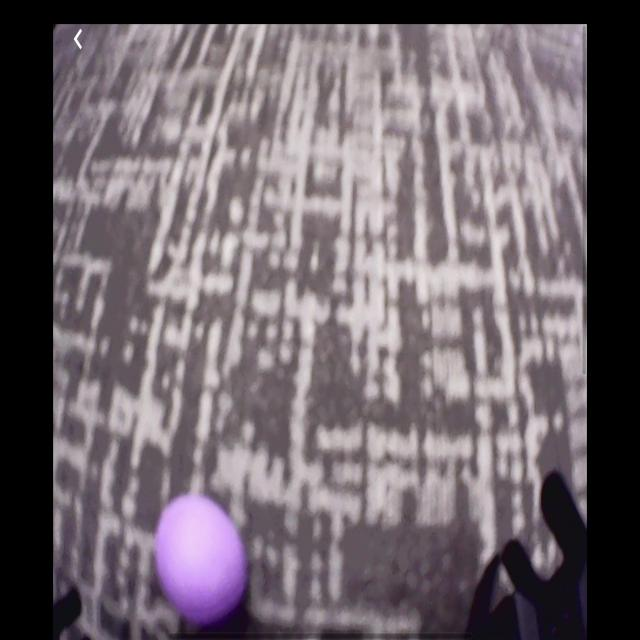ball: (155, 494, 247, 625)
